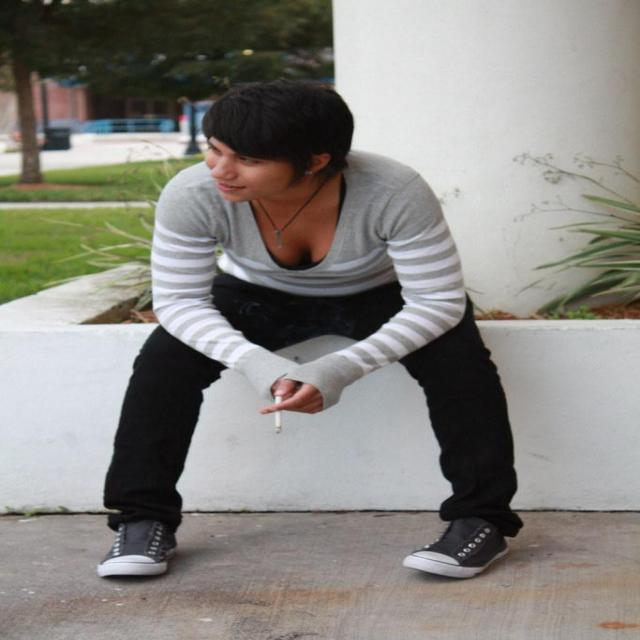Сигарета: (272, 386, 286, 434)
Тело: (98, 74, 514, 583)
